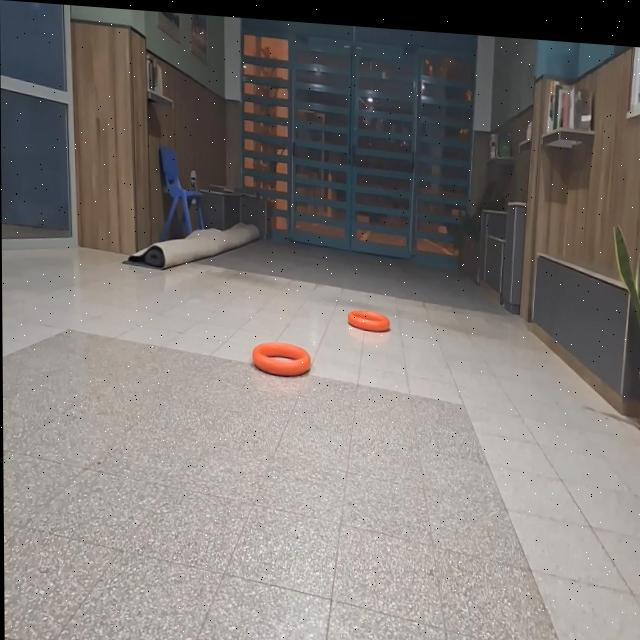note: (252, 336, 311, 376), (347, 304, 390, 327)
